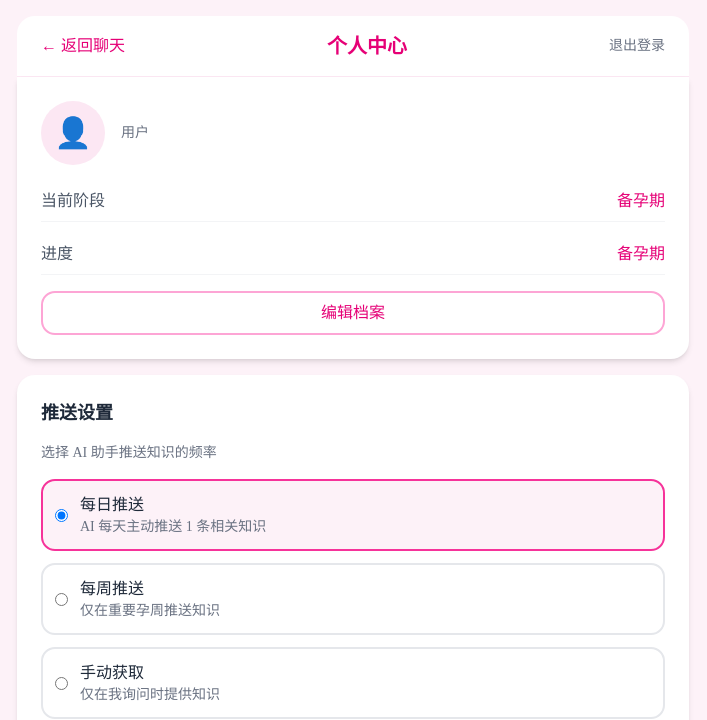
Test: ProfilePage › 保存档案 › 保存成功后退出编辑模式
Click the button "编辑档案": (353, 313) [41,291,665,335]
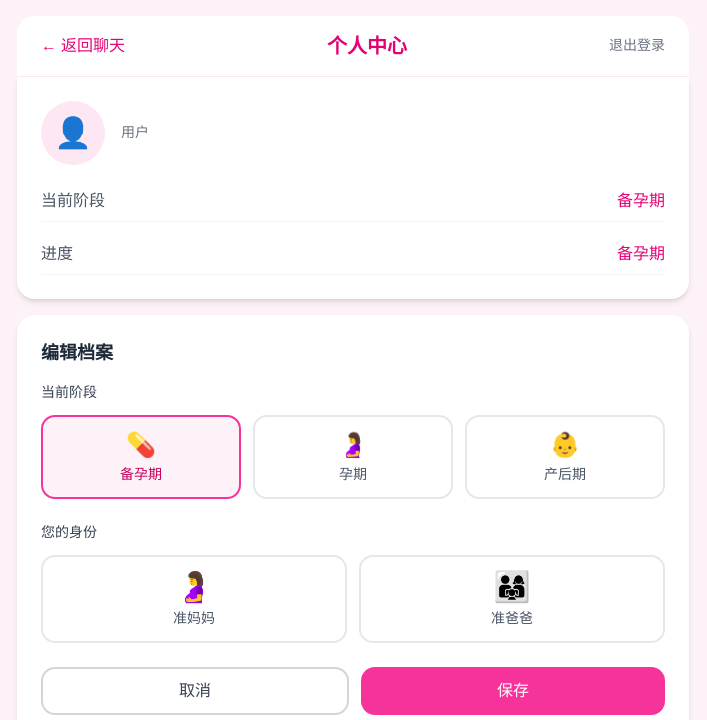
Click the button "保存": (513, 691) [361,667,665,715]
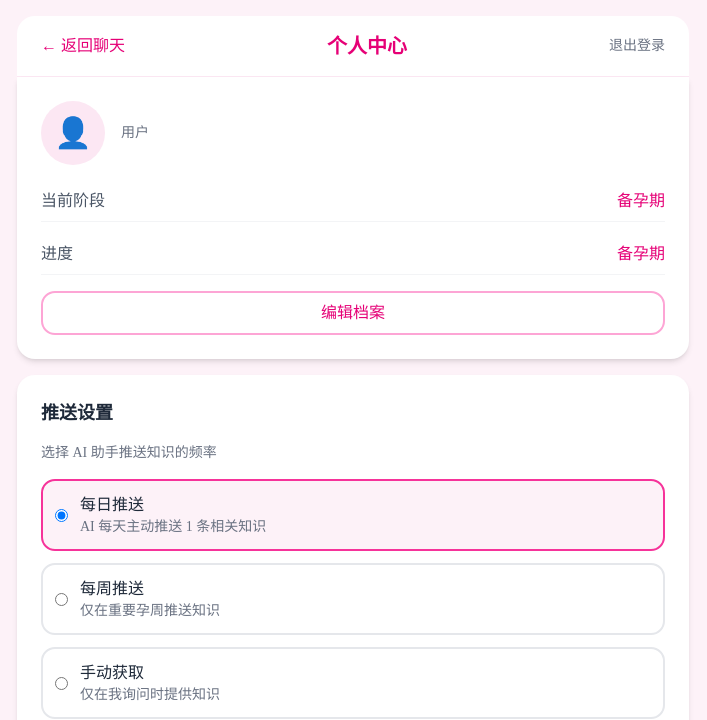
Check: the button "编辑档案" is shown, box [41,291,665,335]
Check: the button "保存" is gone
